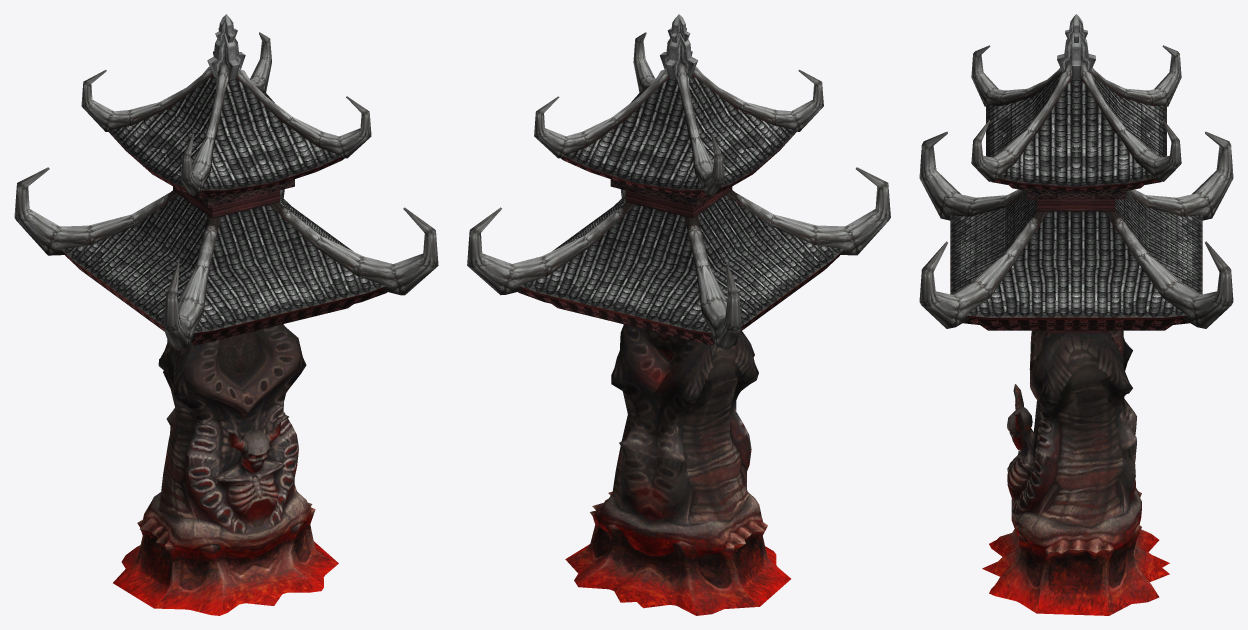
Rendered from otherworld_pillar_01.fbx.
3 views of the same model, side by side, from view 1: azimuth 30°, elevation 25°; view 2: azimuth 150°, elevation 25°; view 3: azimuth 270°, elevation 25° (orthographic).
Visible parts, largest first — view 1: otherworld_pillar_01; view 2: otherworld_pillar_01; view 3: otherworld_pillar_01.
Boxes of the visible parts, x1=… form: otherworld_pillar_01: x1=14, y1=14, x2=438, y2=615; otherworld_pillar_01: x1=467, y1=14, x2=890, y2=615; otherworld_pillar_01: x1=919, y1=14, x2=1233, y2=615.
Size of the model in its own units: 9.83 by 19.17 by 9.84.
